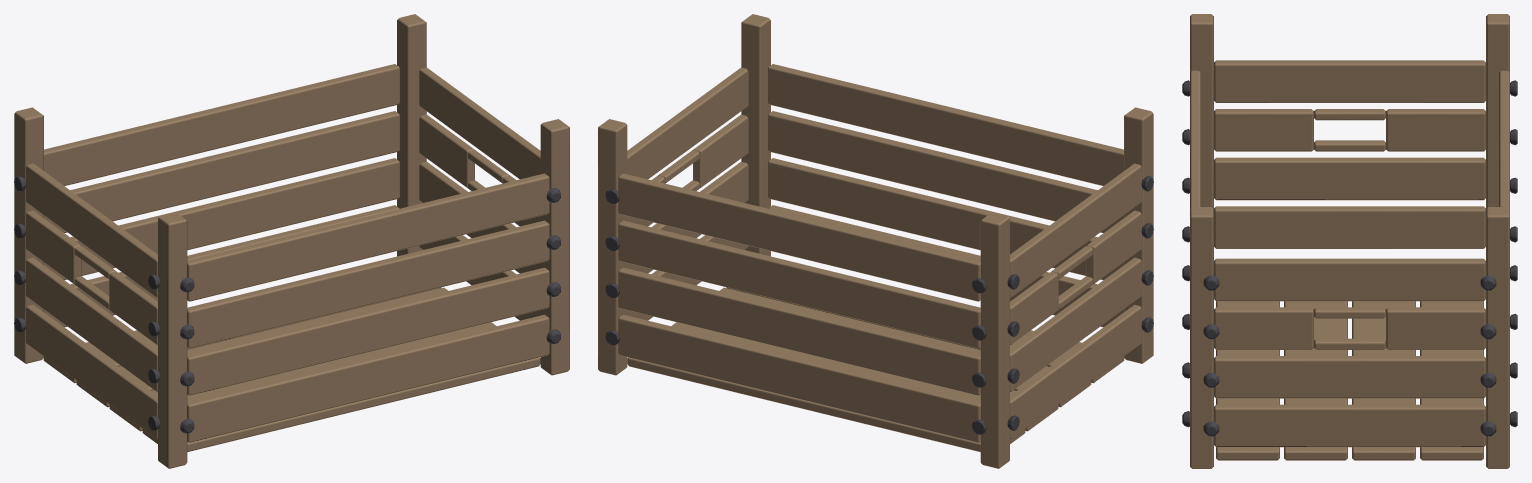
Rendered from crate.glb.
The picture shows the model from 3 angles, left to right: view 1: azimuth 30°, elevation 25°; view 2: azimuth 150°, elevation 25°; view 3: azimuth 270°, elevation 25°; orthographic projection. The views are drawn at different scales.
Parts seen in each view (by area): view 1: crate; view 2: crate; view 3: crate.
Part boxes in pixels (x1,y1,x2,y2): crate: (14, 14, 569, 468); crate: (598, 14, 1153, 468); crate: (1182, 14, 1517, 468).
Bounding box in the file's own units: 0.6188 × 0.35 × 0.4188.
